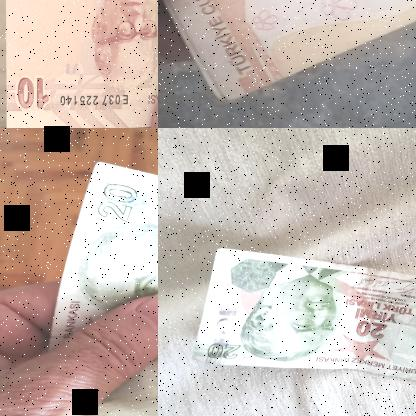5 TL: (4, 0, 157, 127)
